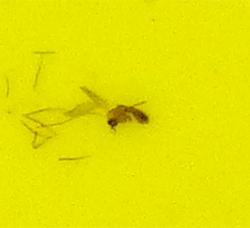Nematocera: (100, 100, 150, 128)
